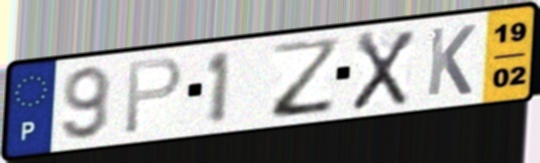1: (204, 47, 233, 128)
9: (59, 63, 115, 142)
K: (423, 22, 479, 99)
P: (121, 54, 185, 137)
X: (348, 27, 418, 113)
Z: (270, 33, 343, 121)
